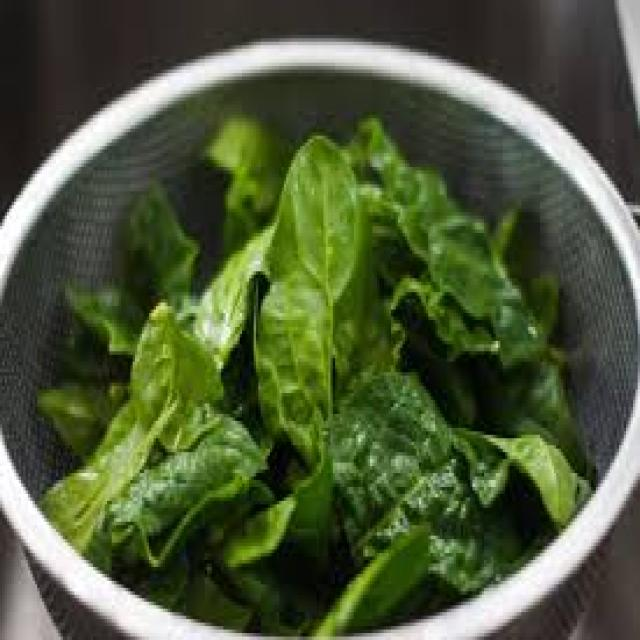organic waste: (37, 292, 219, 553), (328, 358, 524, 595), (254, 132, 388, 376), (84, 403, 265, 581), (414, 202, 552, 372), (210, 448, 335, 594), (472, 341, 600, 476), (354, 115, 456, 275), (249, 261, 330, 452), (203, 104, 300, 261), (307, 518, 433, 637), (384, 282, 486, 428), (456, 421, 584, 522), (191, 215, 272, 368), (51, 282, 149, 379), (119, 177, 198, 296), (31, 379, 138, 463), (500, 191, 566, 327), (138, 546, 245, 626), (202, 574, 326, 636)
